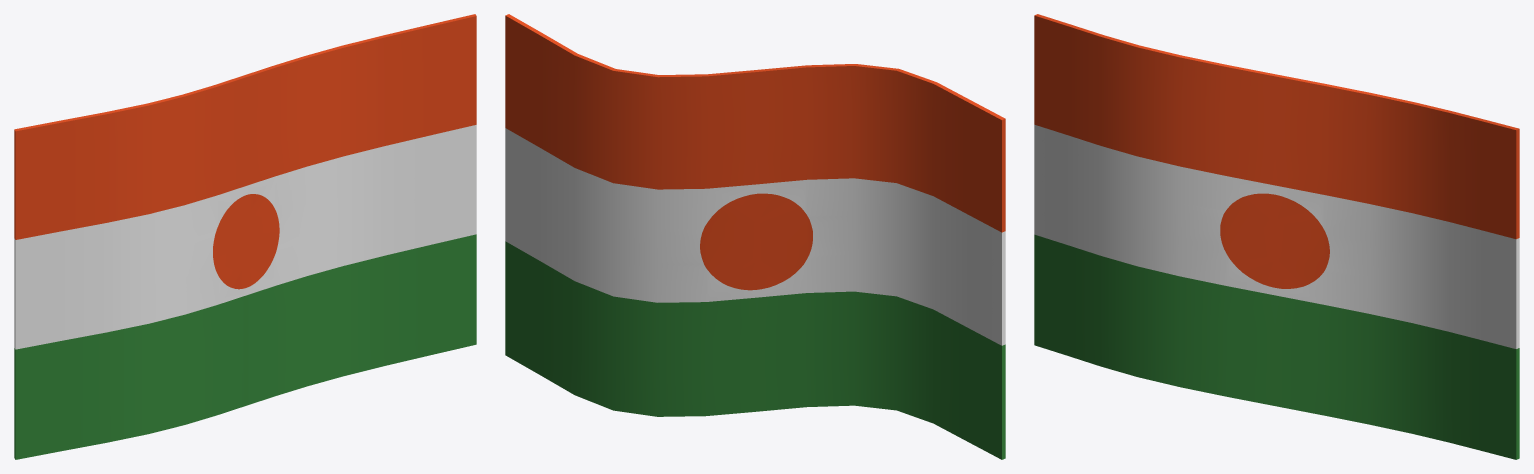
Rendered from flag_niger.glb.
3 views of the same model, side by side, from view 1: azimuth 30°, elevation 25°; view 2: azimuth 150°, elevation 25°; view 3: azimuth 330°, elevation 25° (orthographic). The views are drawn at different scales.
Parts seen in each view (by area): view 1: flag_niger; view 2: flag_niger; view 3: flag_niger.
Part boxes in pixels (x1,y1,x2,y2): flag_niger: [14, 14, 476, 459]; flag_niger: [505, 14, 1005, 459]; flag_niger: [1034, 14, 1519, 459].
Size of the model in its own units: 2.18 by 1.58 by 0.3373.
1 material, 1 textured.
